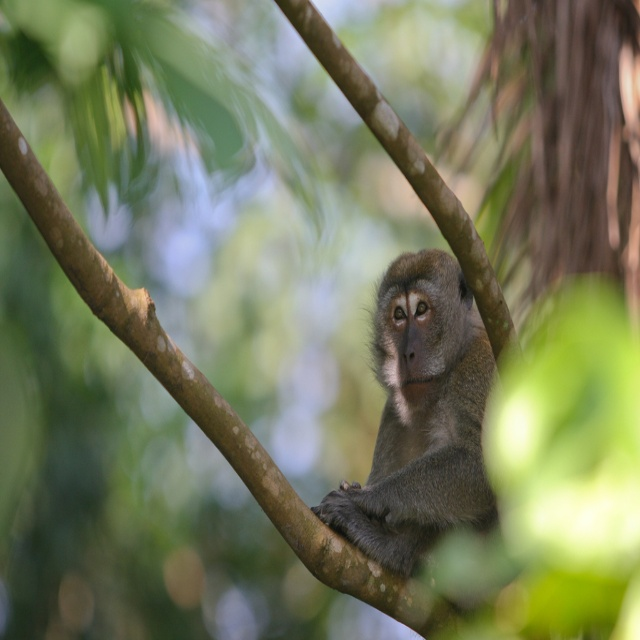Monkey: (310, 247, 503, 578)
